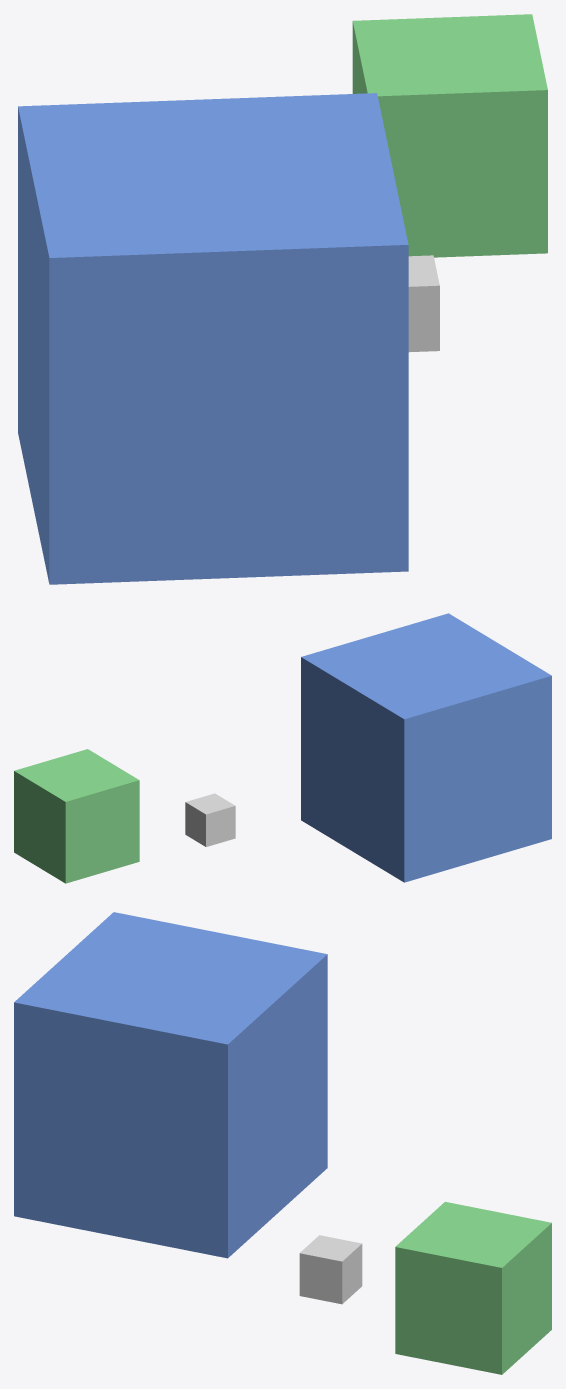
The model's file is testScene_emission.dae.
The picture shows the model from 3 angles, top to bottom: view 1: azimuth 30°, elevation 25°; view 2: azimuth 150°, elevation 25°; view 3: azimuth 270°, elevation 25°; orthographic projection. The views are drawn at different scales.
Parts seen in each view (by area): view 1: Cube_005, Cube_006, Cube_006_001; view 2: Cube_005, Cube_006, Cube_006_001; view 3: Cube_005, Cube_006, Cube_006_001.
Part boxes in pixels (x1,y1,x2,y2): Cube_005: [18, 93, 408, 584]; Cube_006: [352, 14, 547, 257]; Cube_006_001: [408, 255, 439, 352]; Cube_005: [301, 613, 551, 882]; Cube_006: [14, 749, 139, 883]; Cube_006_001: [185, 793, 235, 846]; Cube_005: [14, 912, 327, 1258]; Cube_006: [395, 1201, 551, 1374]; Cube_006_001: [299, 1235, 362, 1304].
Size of what is drawn, in the model's own units: 2.5 by 2.28 by 1.
